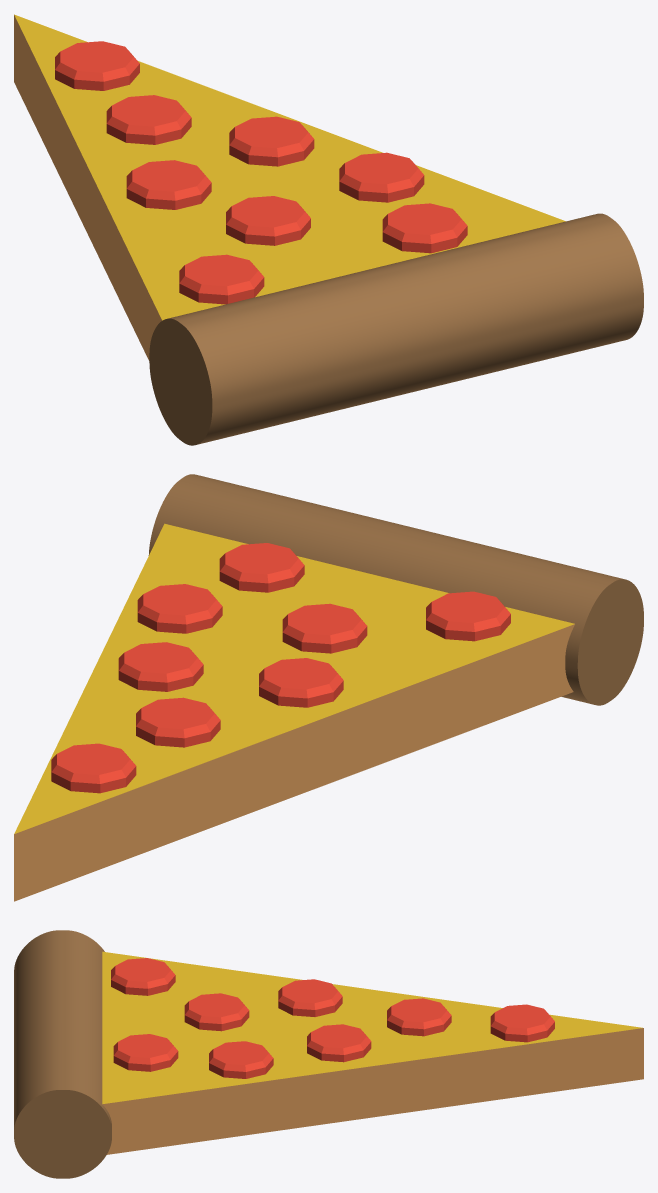
File: pizza.fbx
3 renders of one model, top to bottom at view 1: azimuth 30°, elevation 25°; view 2: azimuth 150°, elevation 25°; view 3: azimuth 270°, elevation 25°, orthographic. The views are drawn at different scales.
Visible parts, largest first — view 1: Plane.003; view 2: Plane.003; view 3: Plane.003.
Boxes of the visible parts, bbox=[...] form: Plane.003: bbox=[14, 14, 643, 445]; Plane.003: bbox=[14, 474, 643, 901]; Plane.003: bbox=[14, 930, 643, 1178].
Bounding box in the file's own units: 118 × 30.58 × 196.
